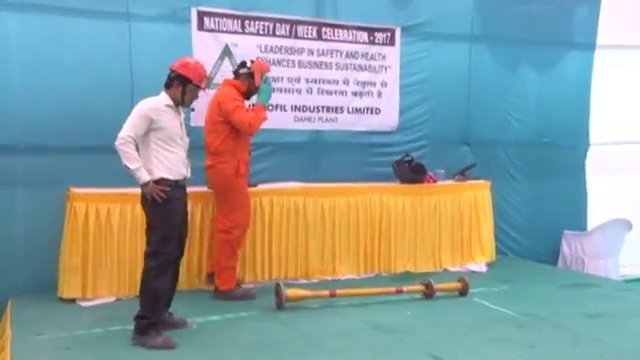helmet: (168, 54, 209, 94), (246, 57, 271, 85)
helmet_on: (232, 53, 272, 96)
person: (116, 55, 194, 350), (202, 51, 272, 294)
